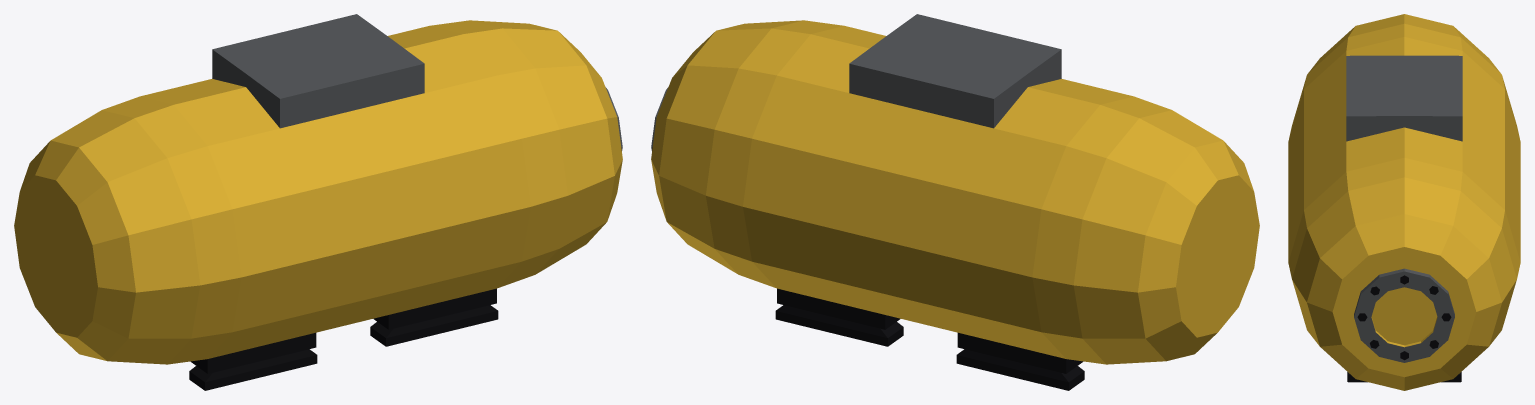
File: Reservoir.fbx
3 views of the same model, side by side, from view 1: azimuth 30°, elevation 25°; view 2: azimuth 150°, elevation 25°; view 3: azimuth 270°, elevation 25° (orthographic). The views are drawn at different scales.
Parts seen in each view (by area): view 1: Reservoir; view 2: Reservoir; view 3: Reservoir.
Boxes of the visible parts, x1,y1,x2,y2 form: Reservoir: (14,14,622,390); Reservoir: (651,14,1259,390); Reservoir: (1288,14,1520,390).
Bounding box in the file's own units: 354 × 173 × 154.
